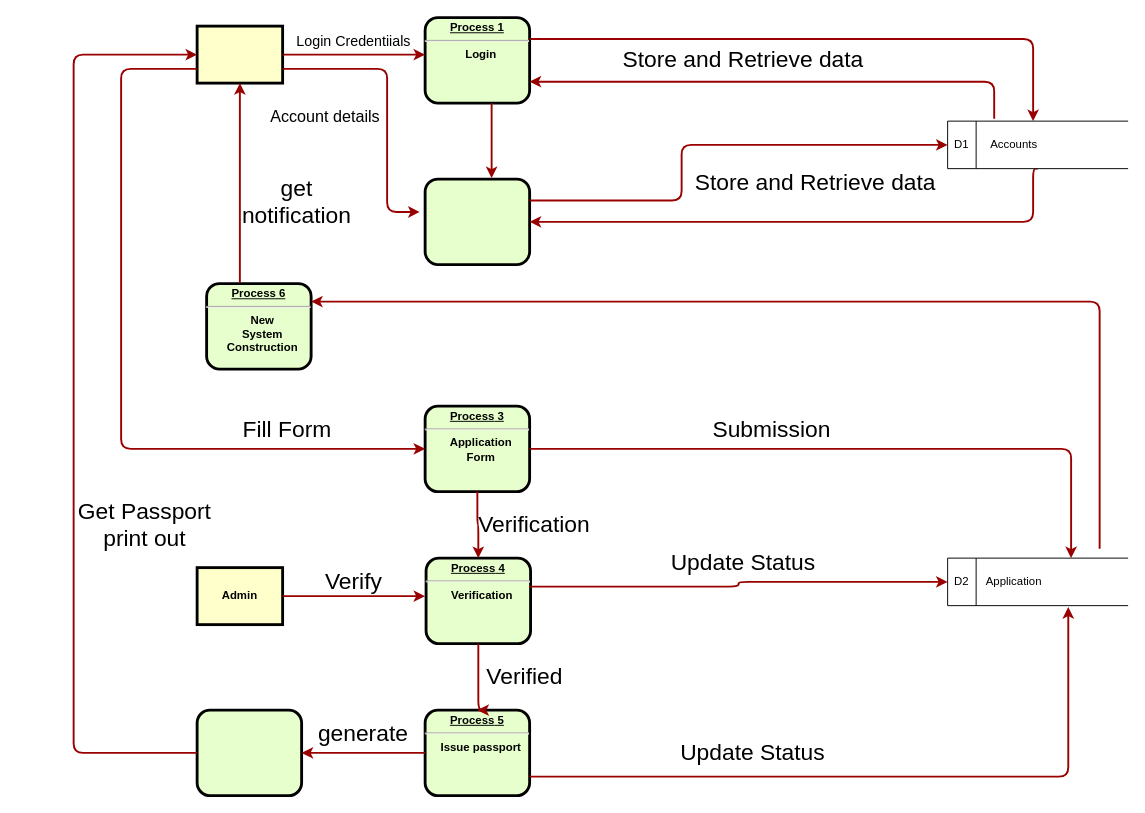
The diagram is 1145 pixels wide and 813 high, and some of its shapes have lost their labels. Each missing label, with the centre of its shape:
Process 2 Profile: (x=477, y=221)
Process 7 Print out & emai: (x=249, y=752)
User: (x=239, y=54)
